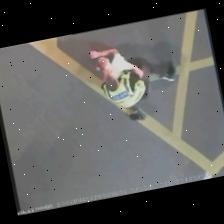person: (90, 48, 175, 119)
